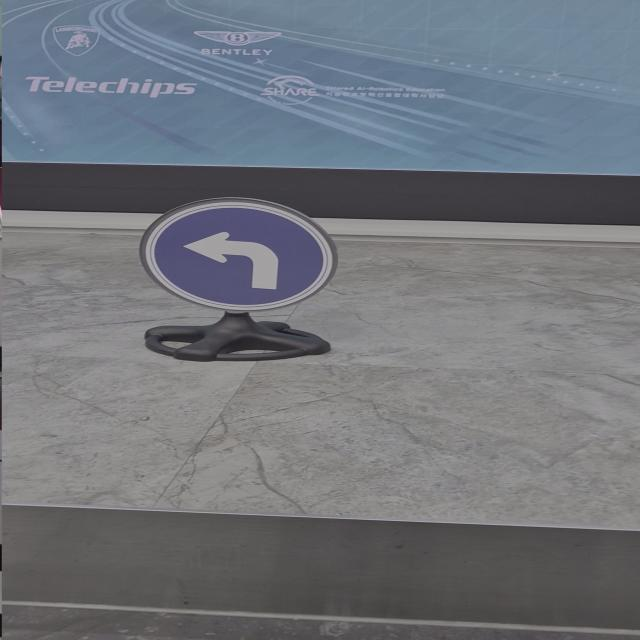left_direction: (132, 194, 351, 321)
